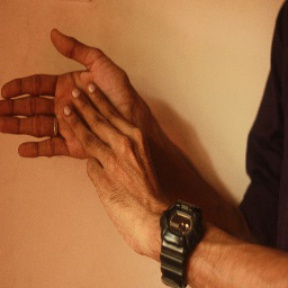M: (1, 25, 150, 187)
